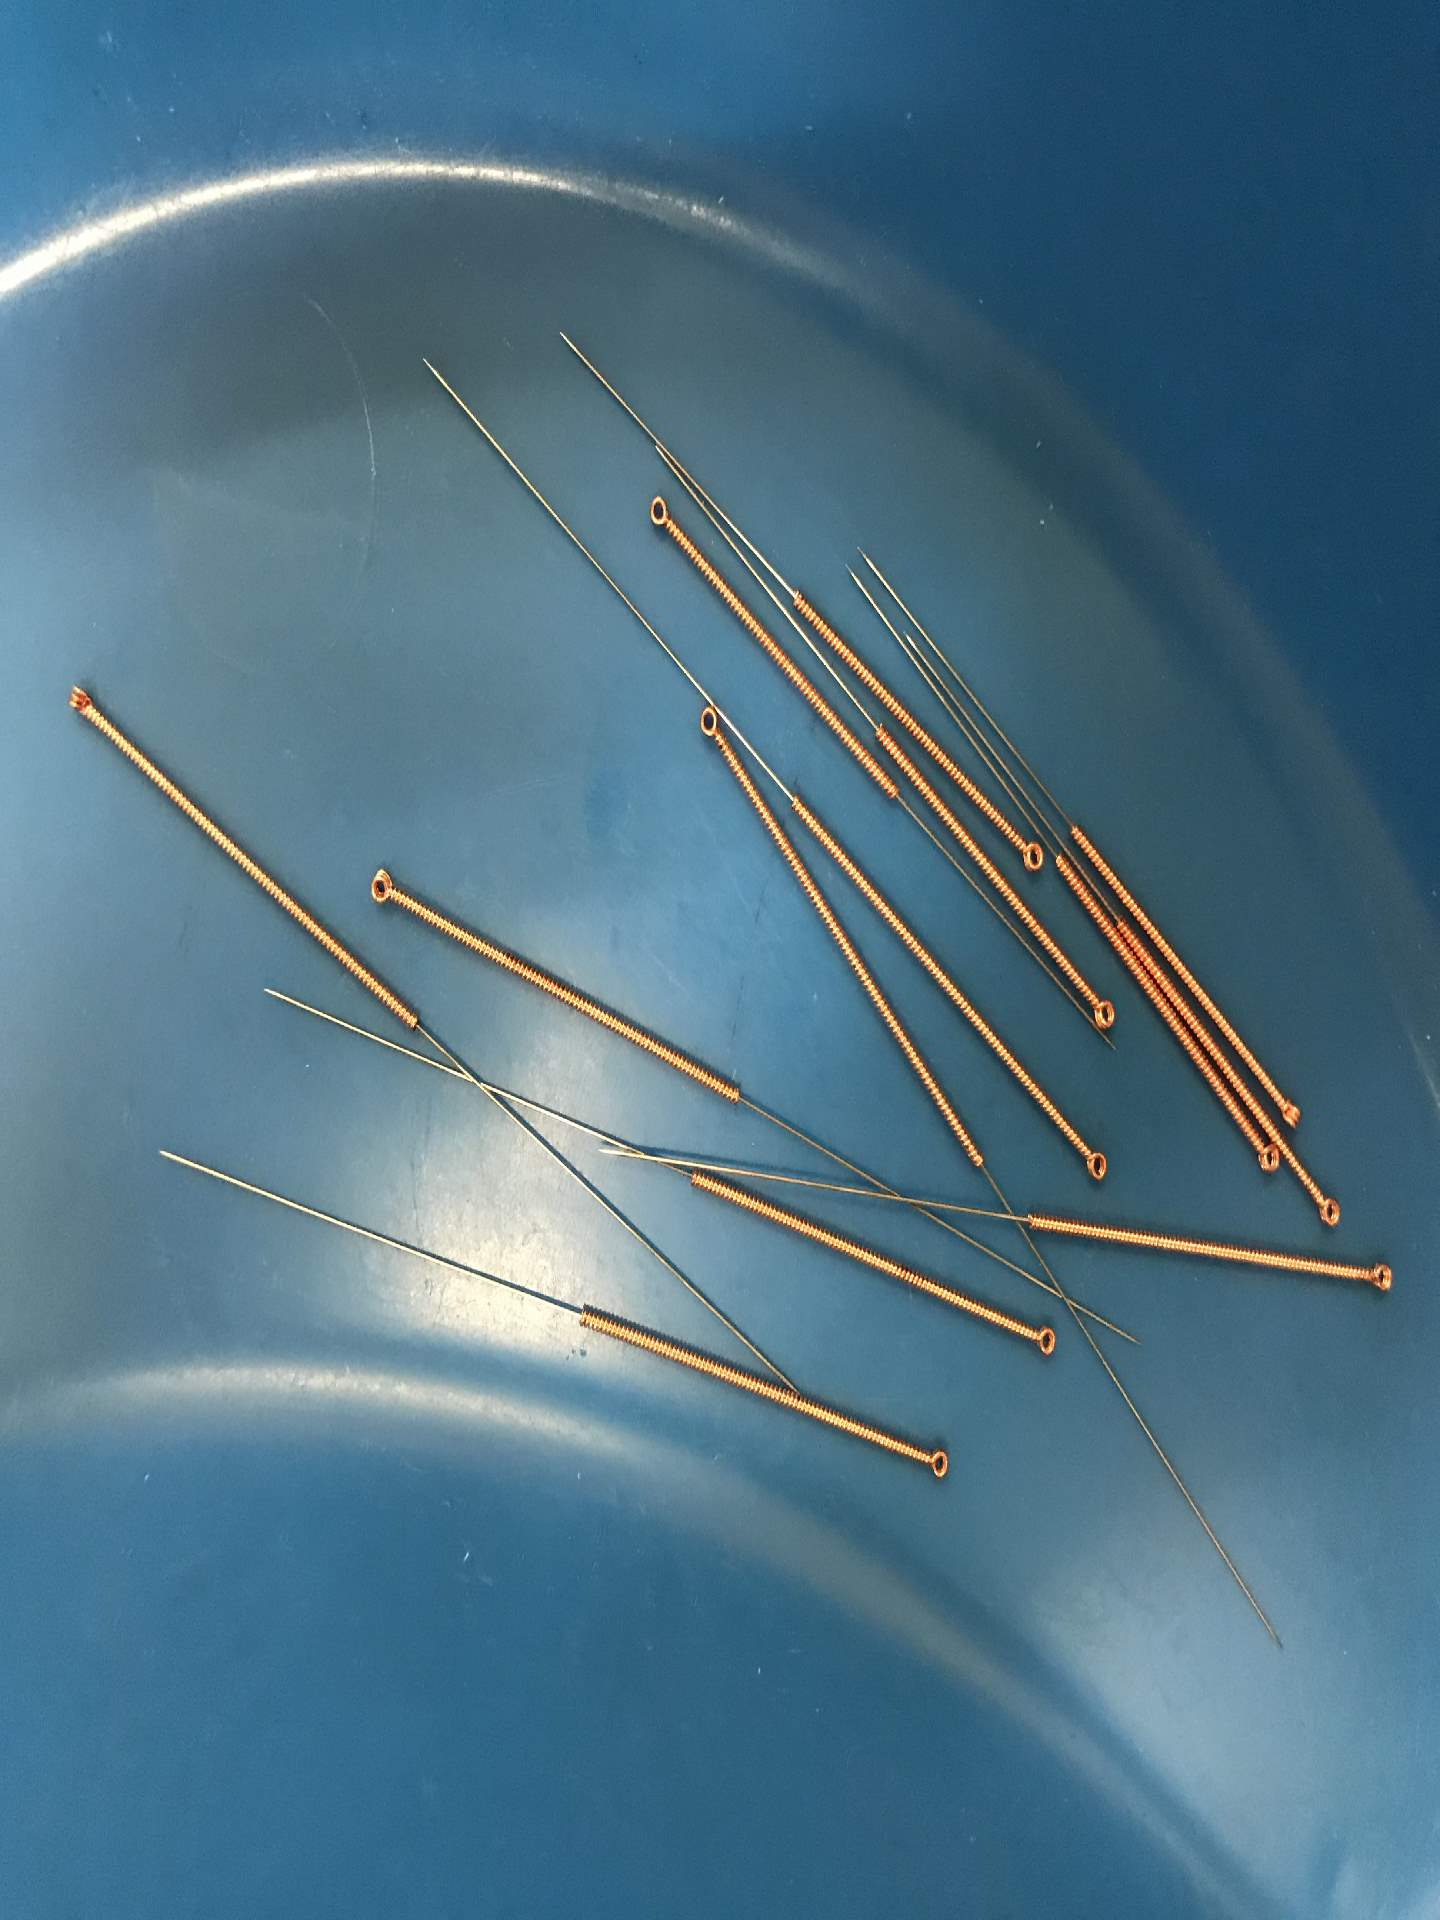needle: (50, 671, 107, 730), (1078, 980, 1125, 1045), (1068, 1135, 1119, 1191), (357, 857, 404, 918), (635, 481, 682, 540), (914, 1435, 961, 1491), (1355, 1250, 1404, 1303), (1006, 828, 1051, 884), (1016, 1318, 1066, 1367), (687, 698, 734, 748), (1305, 1185, 1349, 1237), (1272, 1084, 1311, 1134), (1246, 1137, 1283, 1181)
